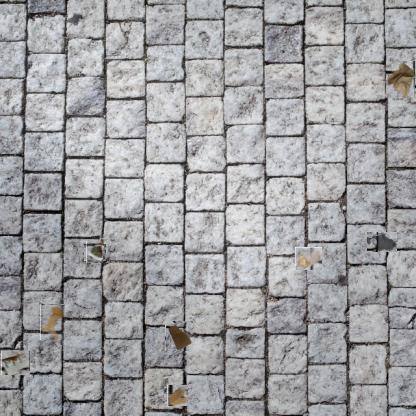dirty: (385, 60, 415, 98), (165, 322, 193, 352), (3, 350, 29, 377), (295, 247, 322, 270), (167, 384, 188, 406), (85, 243, 105, 262)
liquid: (40, 304, 65, 340), (367, 232, 397, 252)
